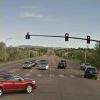Car: (1, 61, 38, 100)
